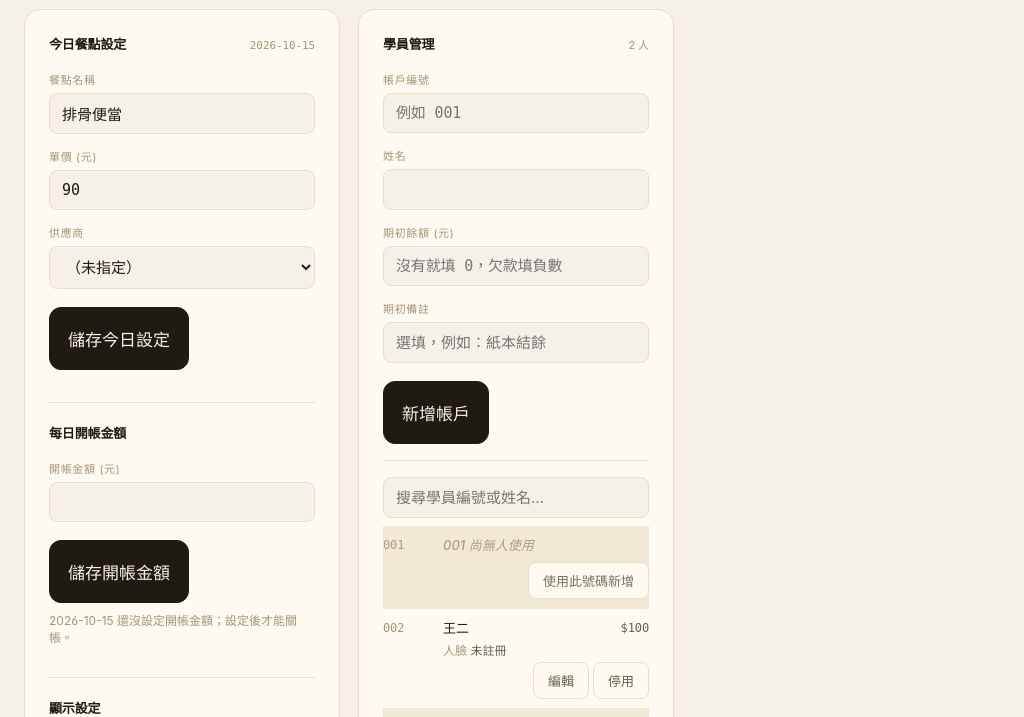
Scenario: AdminScreen - 學員編號排序、缺號列與改編號 (U3 #7, #9) › 儲存改號跳出確認框，確認後成功更新編號與交易稽核
Click the button with aria-label "編輯 002": (561,680) x1=533 y1=662 x2=589 y2=699
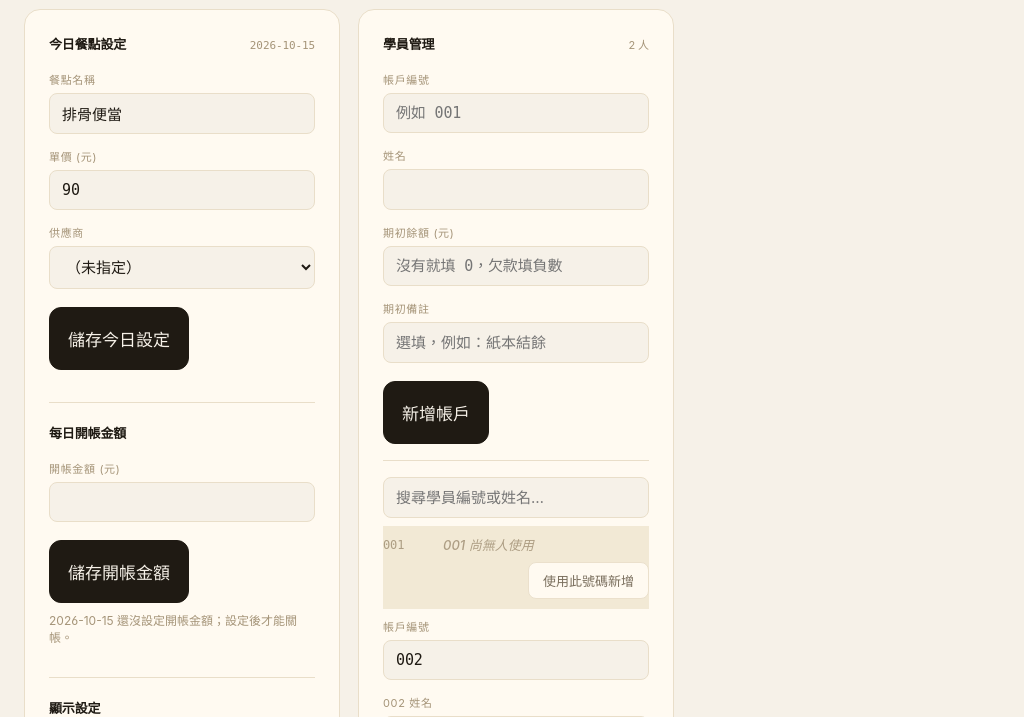
Replace the text in the field labelled "帳戶編號" below "001 尚無人使用" with "009": (516,660) x1=383 y1=640 x2=649 y2=680
(page scrolled)
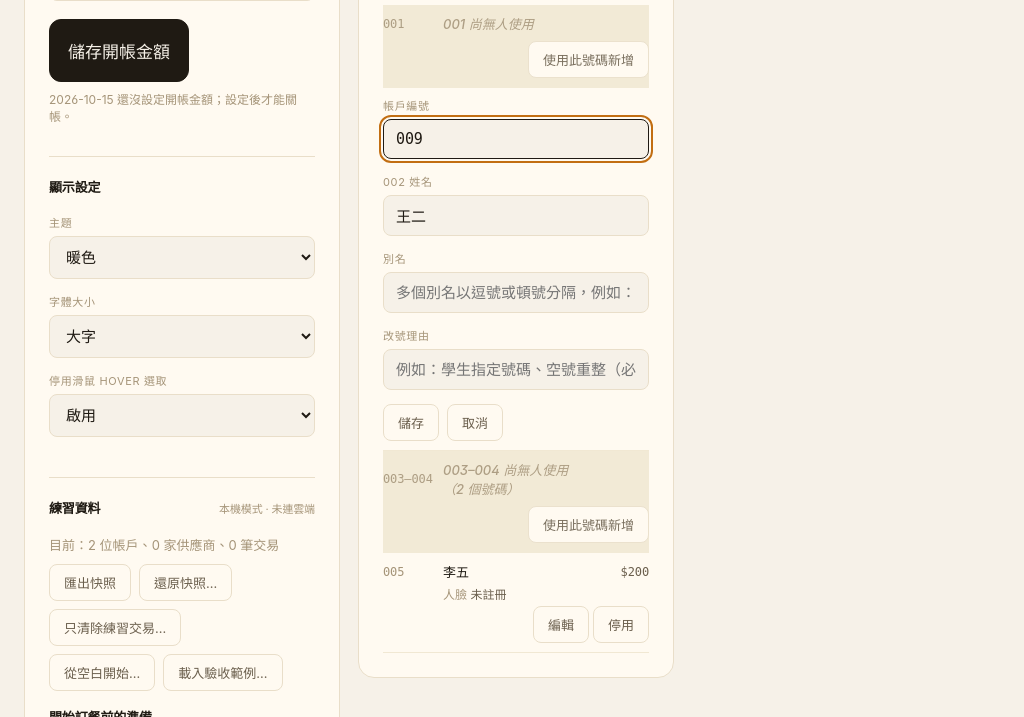
In the field labelled "改號理由": (516,370) x1=383 y1=349 x2=649 y2=390, type "學員指定號碼"
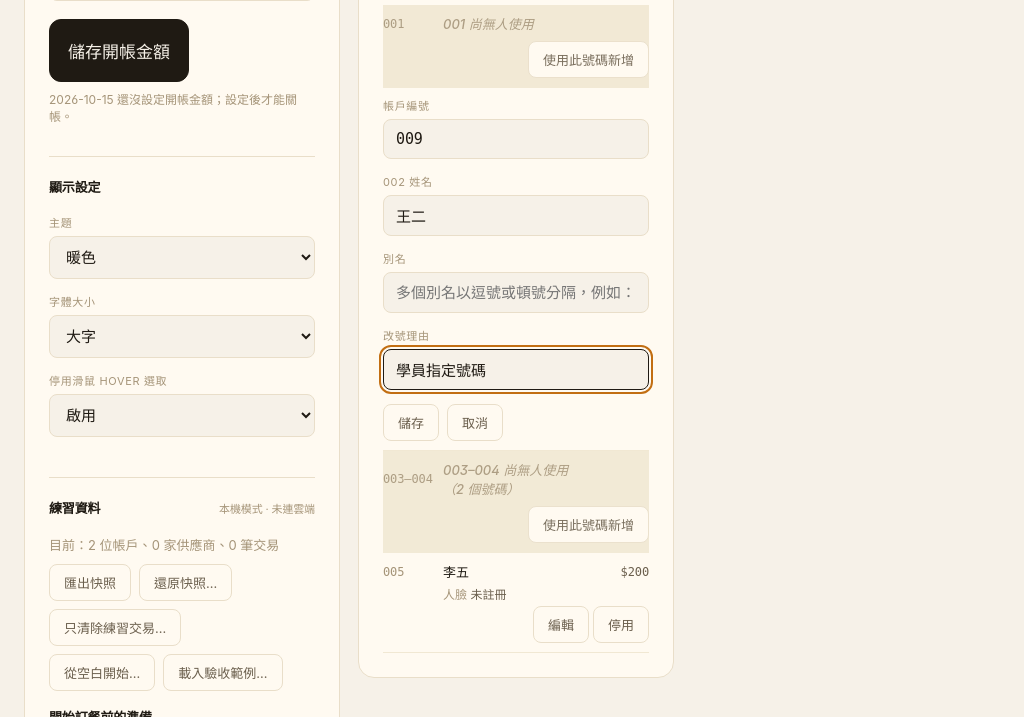
Click the button "儲存": (411,422) x1=383 y1=404 x2=439 y2=441
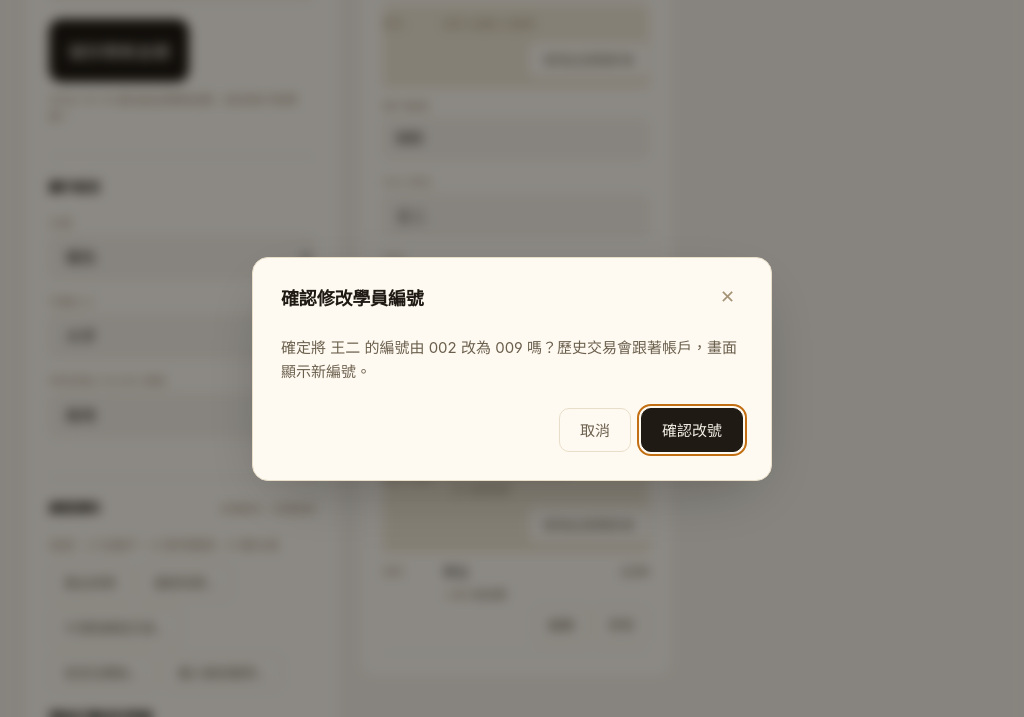
Result: the heading "確認修改學員編號" is shown at x1=281 y1=284 x2=424 y2=310
Result: the text "確定將 王二 的編號由 002 改為 009 嗎？歷史交易會跟著帳戶，畫面顯示新編號。" is shown at x1=281 y1=336 x2=743 y2=384
Click the button "確認改號": (692,430) x1=641 y1=408 x2=743 y2=452
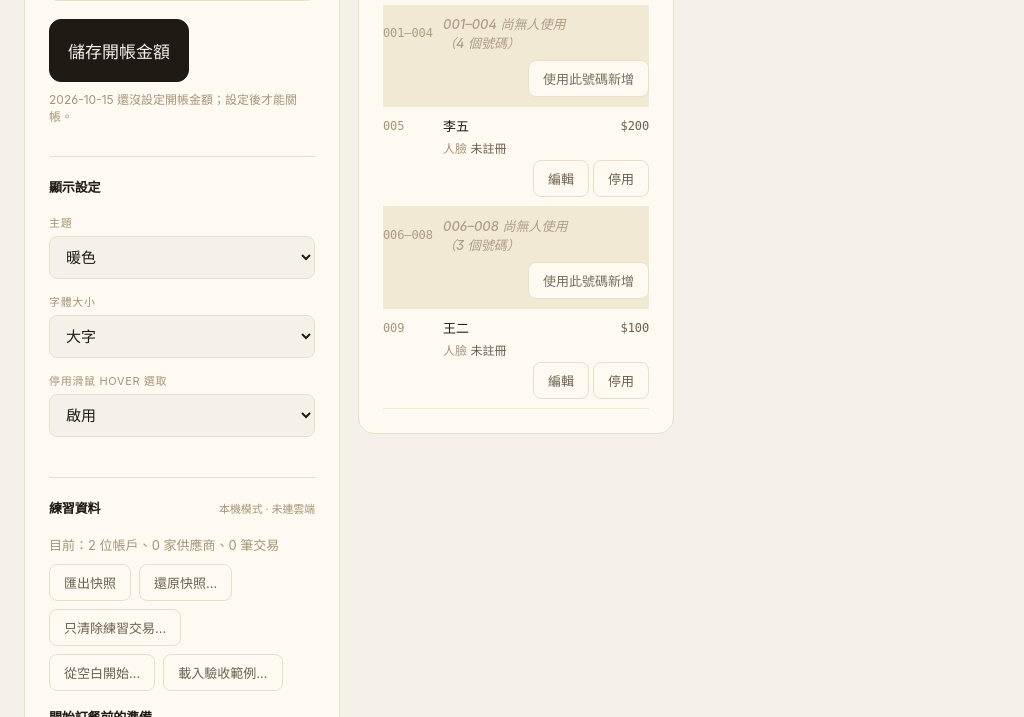
Result: the text "009" is shown at x1=383 y1=320 x2=404 y2=334
Result: the text "002" is gone
